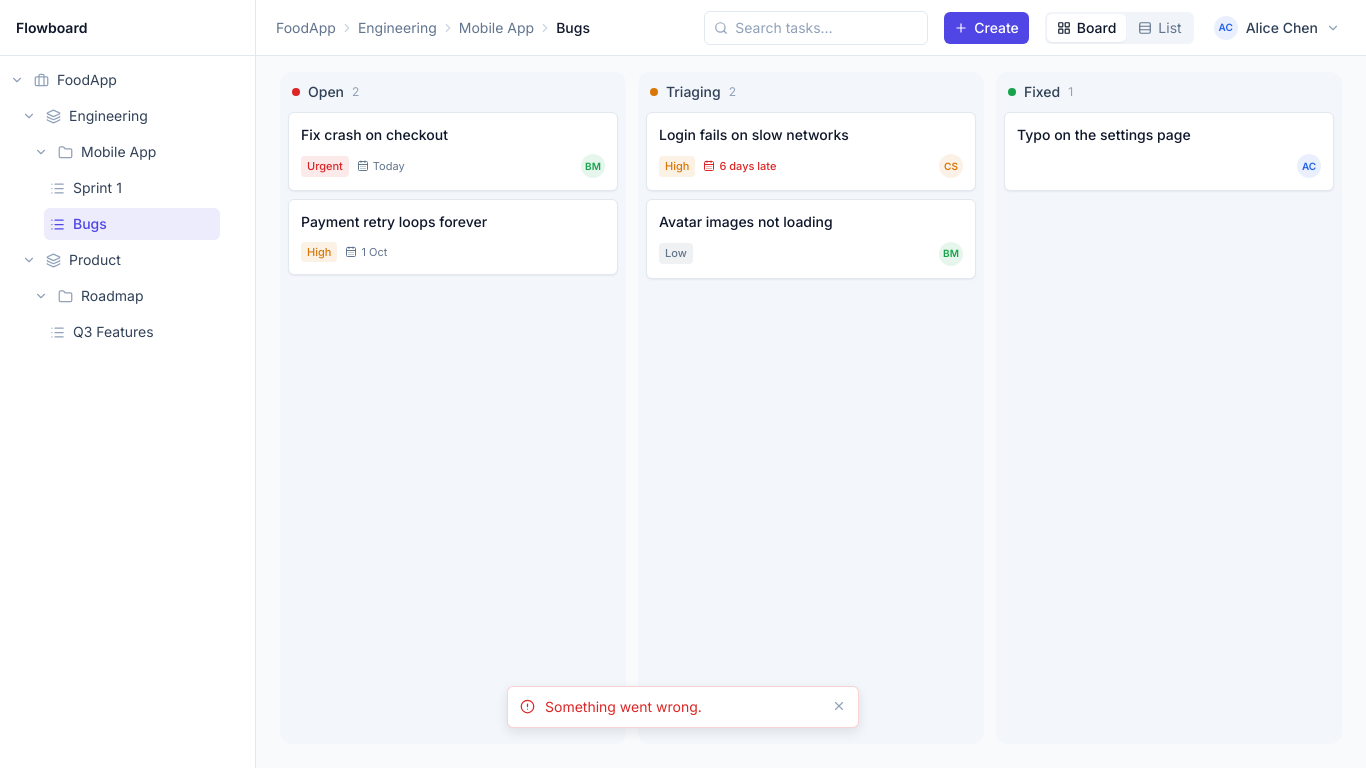
Scenario: Toaster › can be dismissed by hand
The width and height of the screenshot is (1366, 768).
Click the button named "Dismiss".
click(839, 706)  # box [828,695,850,717]
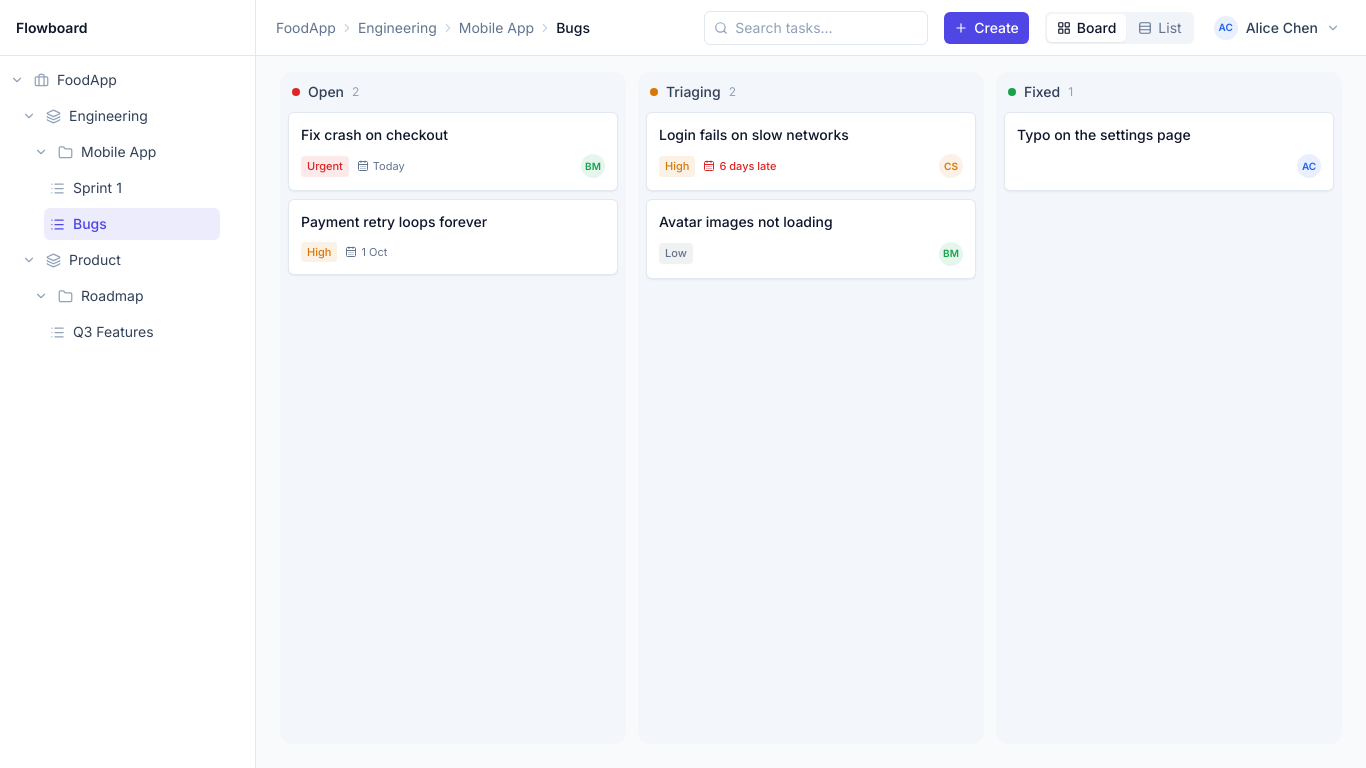
Now the message "Something went wrong." is gone
